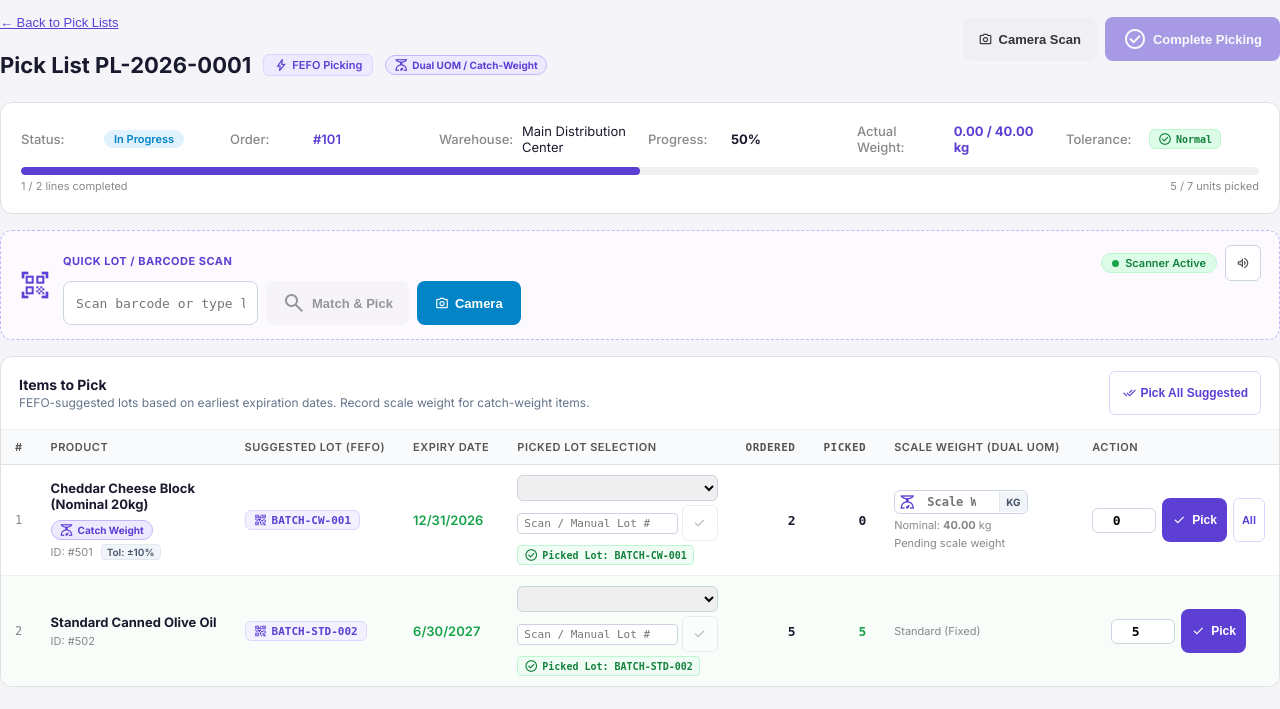
Test: PickListDetailView (Catch-Weight & Dual UOM) › shows live out-of-tolerance warning and banner when scale weight exceeds tolerance
// Set scale weight to 46.0 kg (+15% on 40kg nominal, exceeds ±10%)
Type "46" into the number field with placeholder "Scale Weight (Dual UOM)". click: (959, 502)
box: [919,491,999,513]
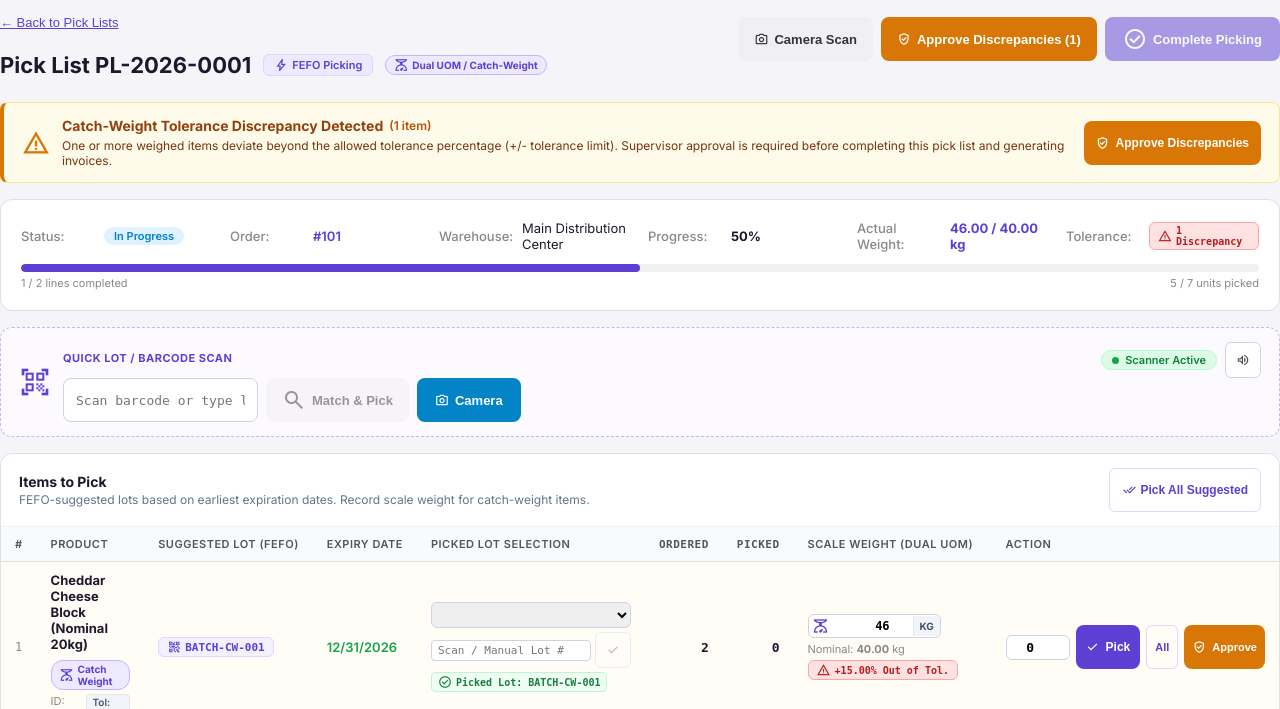
Check: the text "+15.00%" is shown, box [835,664,949,676]
Check: the text "Out of Tol." is shown, box [835,664,949,676]
Check: the element with class "badge-tolerance-out" showing "1 Discrepancy" is shown, box [1149,222,1259,250]
